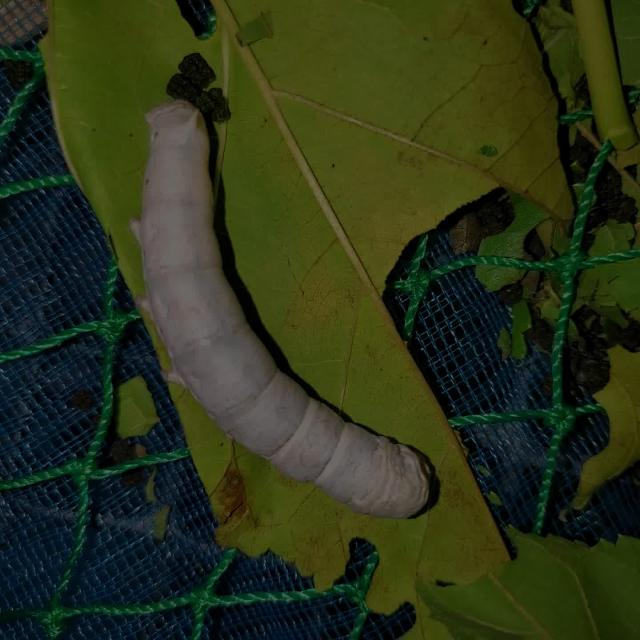Healthy: (106, 92, 441, 528)
